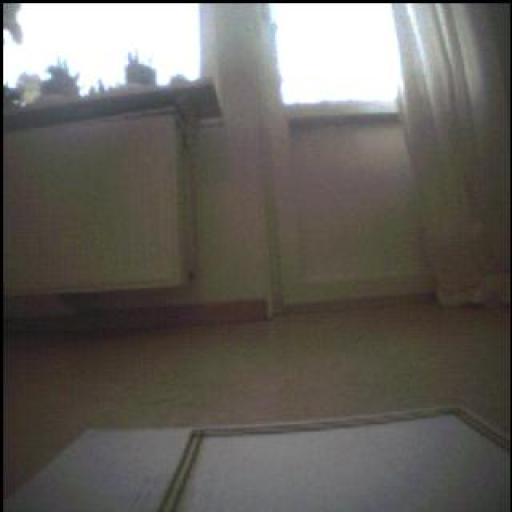Pad: (17, 402, 508, 507)
